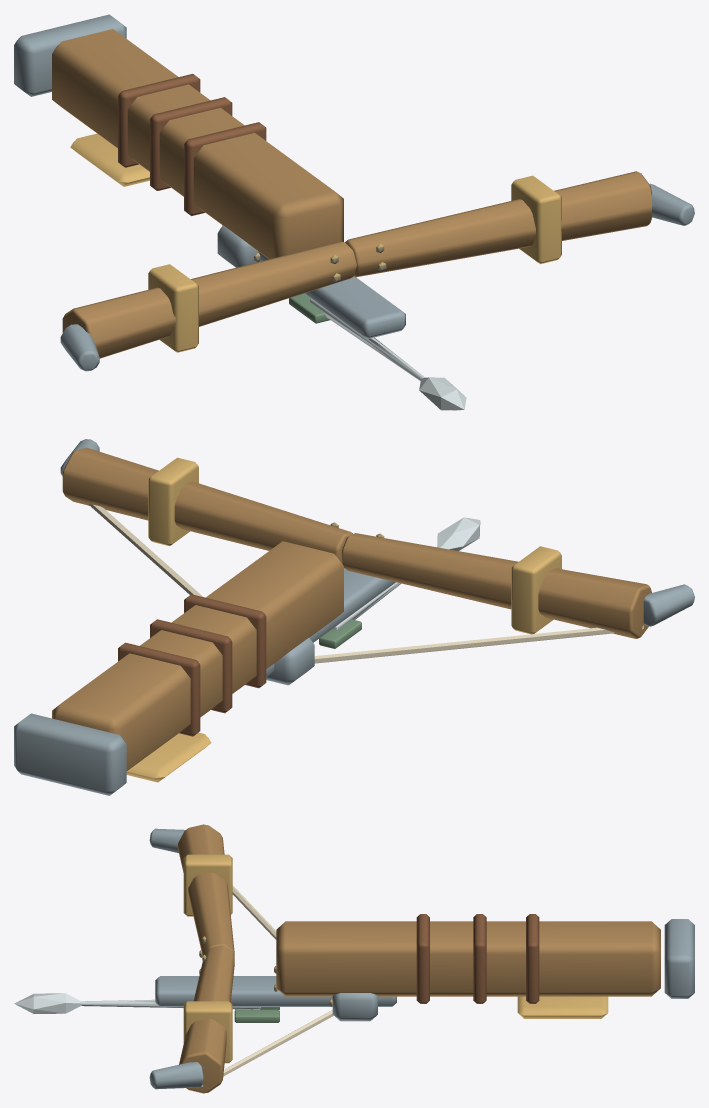
The model's file is ballesta_roble_t2.glb.
The picture shows the model from 3 angles, top to bottom: view 1: azimuth 30°, elevation 25°; view 2: azimuth 150°, elevation 25°; view 3: azimuth 270°, elevation 25°; orthographic projection. The views are drawn at different scales.
Visible parts, largest first — view 1: ballesta_roble_t2_finished; view 2: ballesta_roble_t2_finished; view 3: ballesta_roble_t2_finished.
Part boxes in pixels (box(x1,y1,x2,y2)): ballesta_roble_t2_finished: box(14, 14, 694, 410); ballesta_roble_t2_finished: box(14, 439, 694, 795); ballesta_roble_t2_finished: box(14, 824, 694, 1093).
Bounding box in the file's own units: 1.22 × 0.1993 × 1.41.
8 materials, 1 textured.
